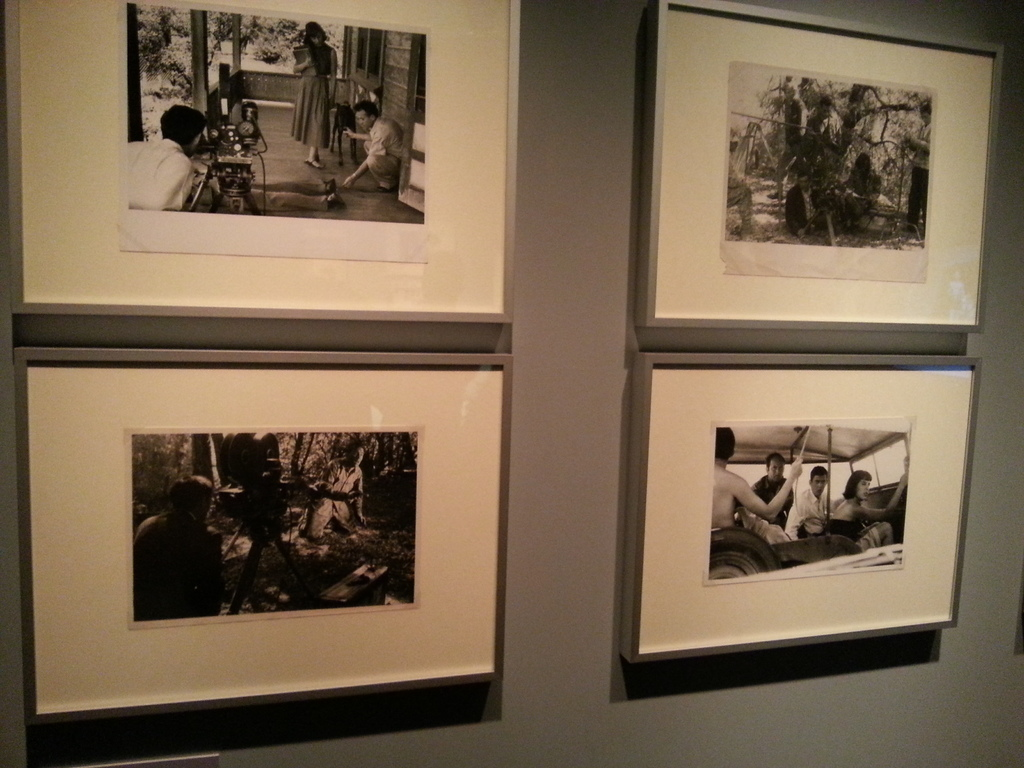person: (132, 474, 231, 619)
